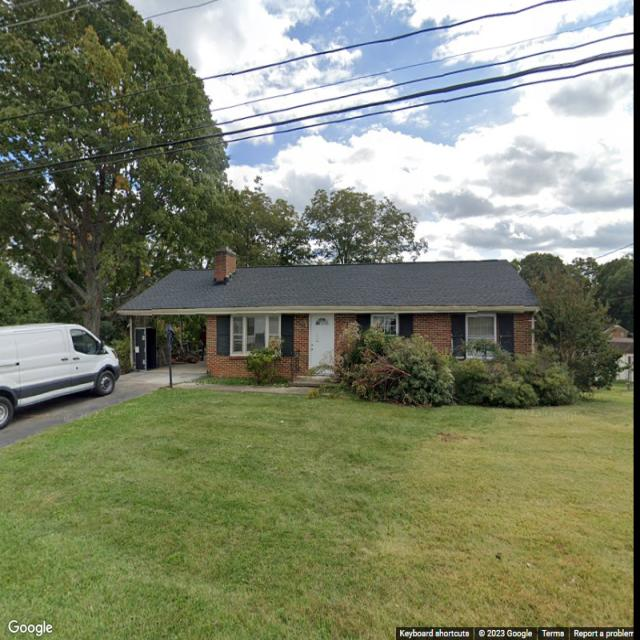House: (118, 247, 546, 384), (601, 322, 628, 339)
